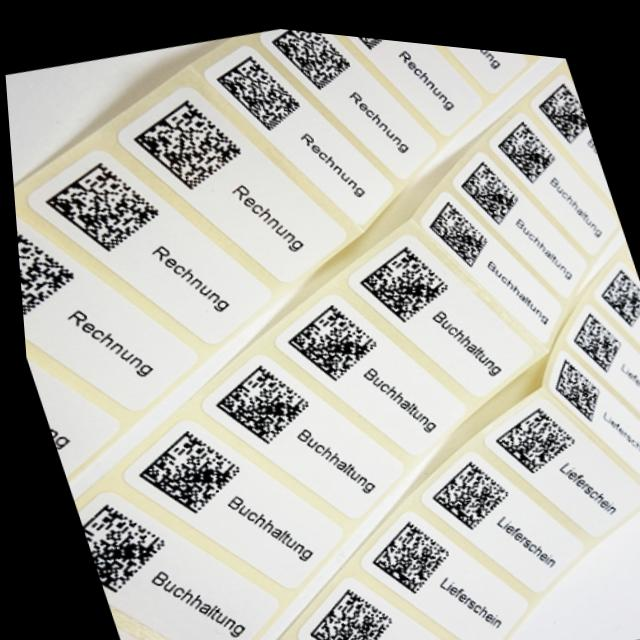datamatrix: (109, 67, 259, 213), (27, 137, 175, 274), (187, 340, 324, 465), (332, 215, 469, 340), (116, 409, 252, 534), (263, 276, 399, 400), (194, 25, 314, 147), (67, 487, 172, 602), (476, 383, 580, 478), (412, 438, 516, 533), (352, 502, 456, 597), (278, 563, 405, 640), (261, 22, 370, 99), (13, 213, 84, 325), (484, 95, 569, 186), (415, 180, 500, 270), (444, 139, 529, 229), (539, 337, 605, 417), (561, 289, 627, 368), (527, 63, 592, 142), (585, 245, 640, 324)
